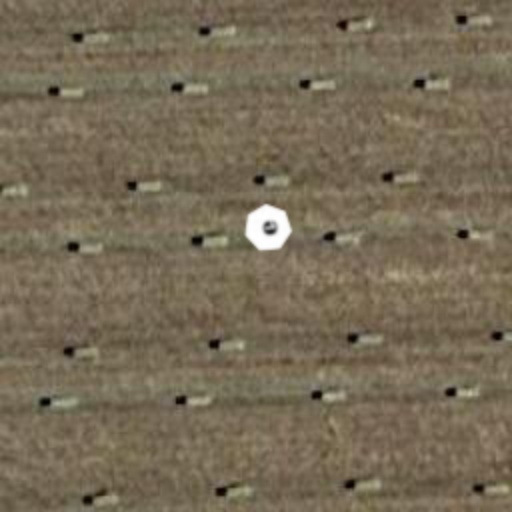heptagon: (240, 200, 296, 256)
